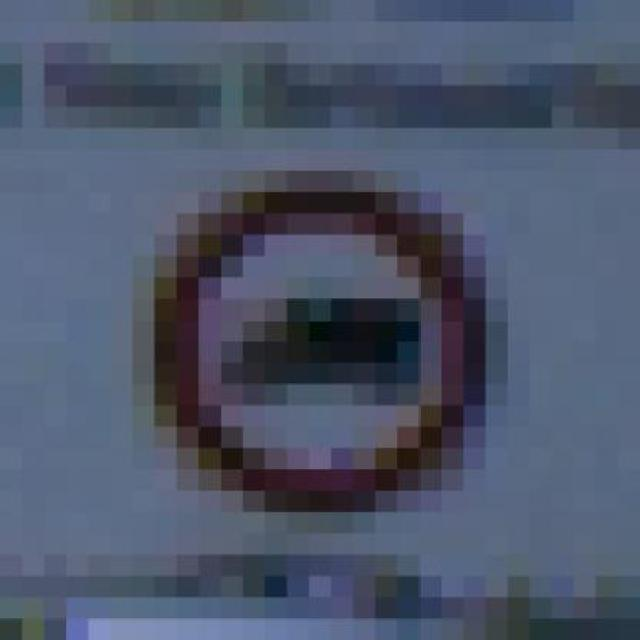Truck traffic is prohibited: (110, 171, 508, 534)
